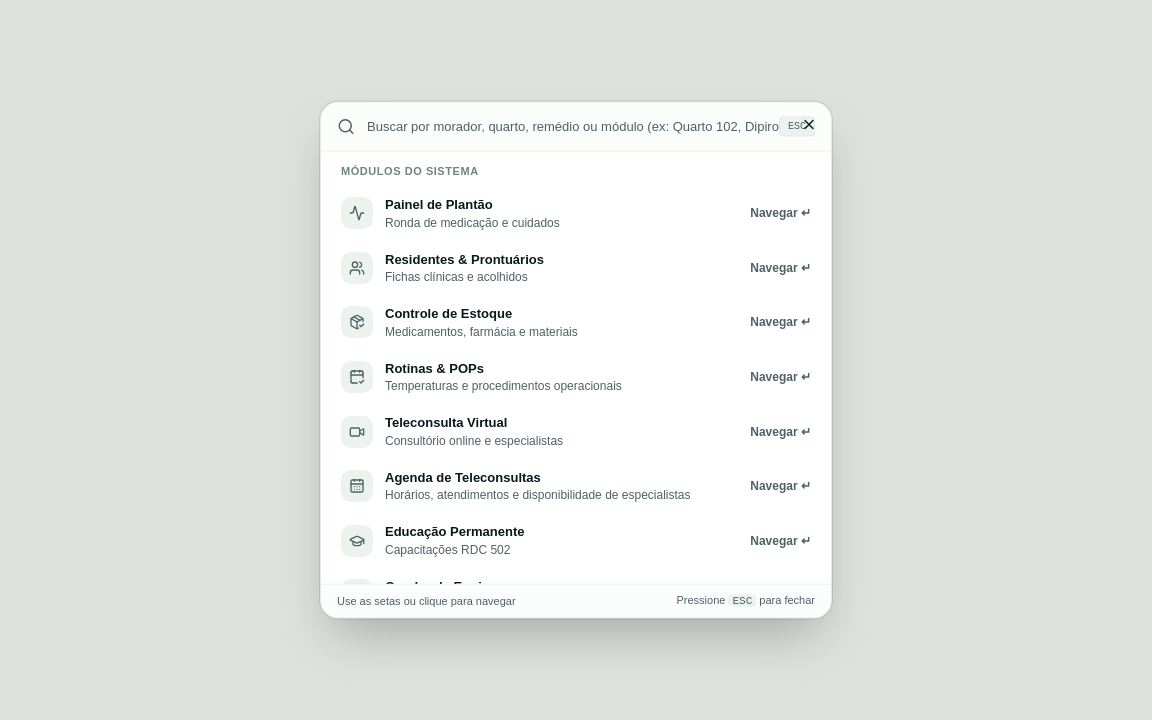
CommandPaletteModal Component (Busca Rápida Global) › permite buscar medicamento prescrito e navega para a aba de prescrição
Later steps or results of the test are not shown.
Replace the text in the field with placeholder "Buscar por morador, quarto, remédio ou módulo" with "Losartana" at x=573, y=127, box x1=367 y1=117 x2=779 y2=136
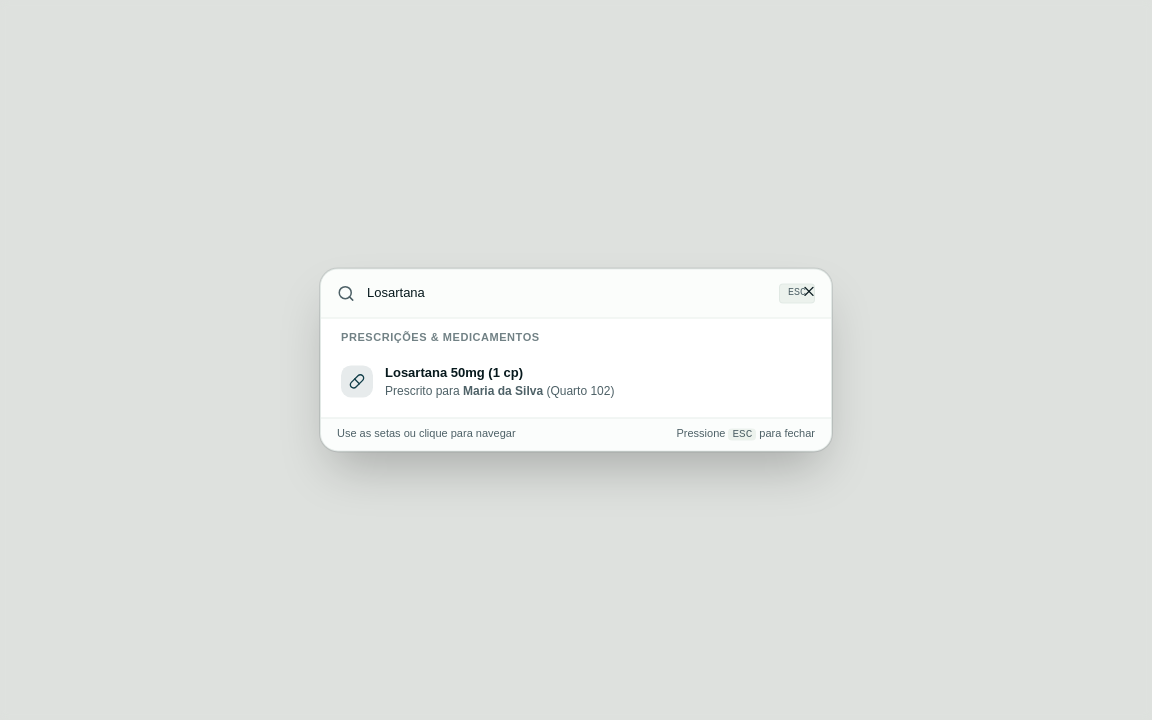
Check: the text "Losartana 50mg (1 cp)" is shown, box x1=385 y1=365 x2=523 y2=380
Check: the text "Prescrito para Maria da Silva (Quarto 102)" is shown, box x1=385 y1=383 x2=614 y2=399
